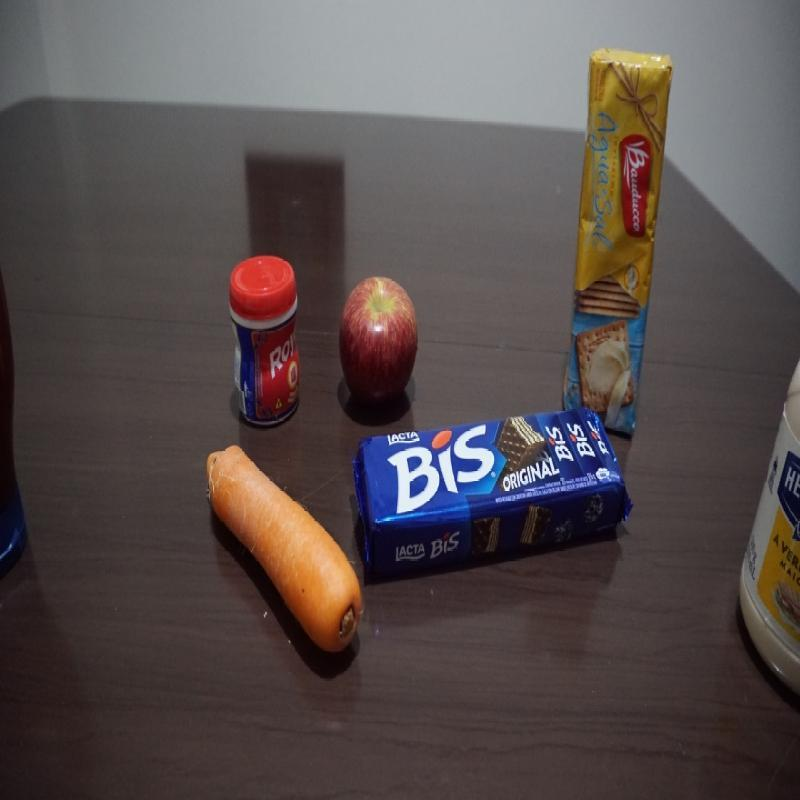Apple: (328, 276, 423, 411)
Carrot: (205, 445, 364, 657)
Cracker: (561, 48, 676, 440)
Ketchup: (0, 266, 29, 590)
Mayonnaise: (736, 338, 800, 702)
Yeast: (226, 249, 304, 432)
